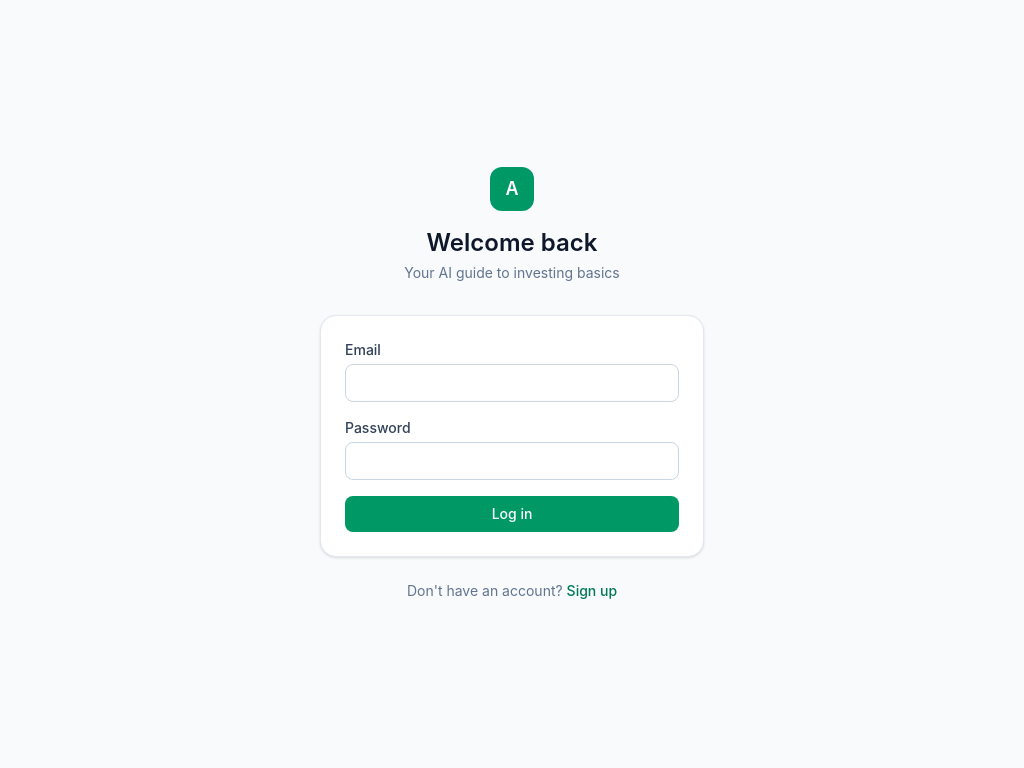
Test: login › logs in and lands on the chat page
Type "me@example.com" into the field labelled "Email" at x=512, y=383, box [345,364,679,402]
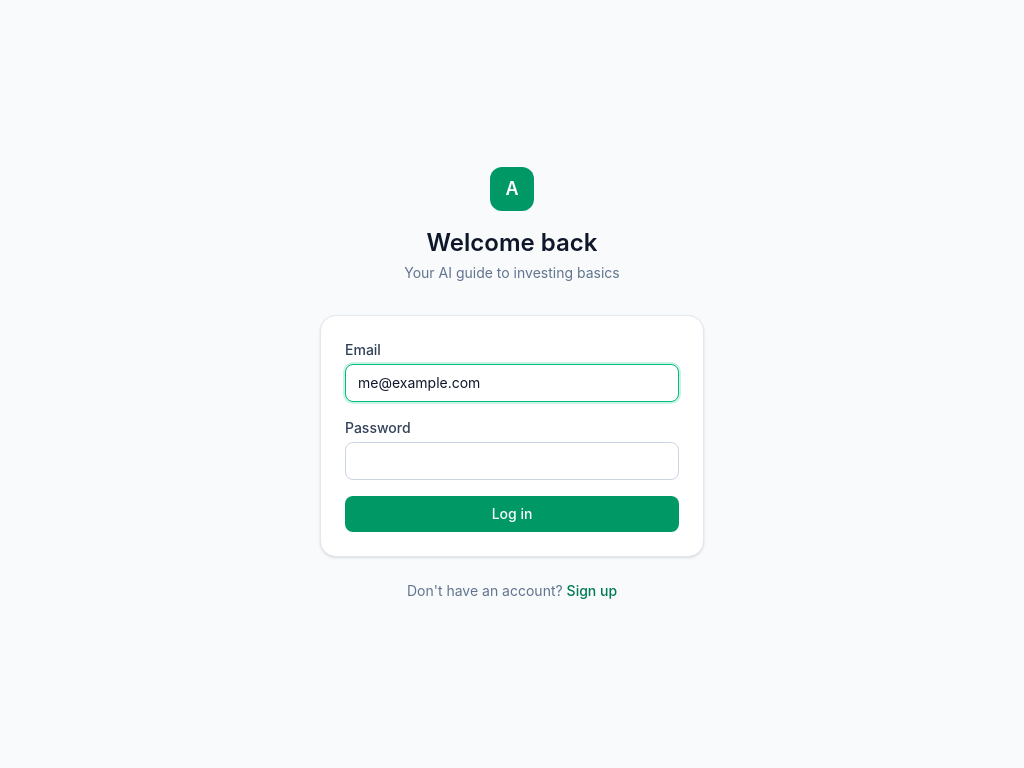
Type "password123" into the password field labelled "Password" at x=512, y=461, box [345,442,679,480]
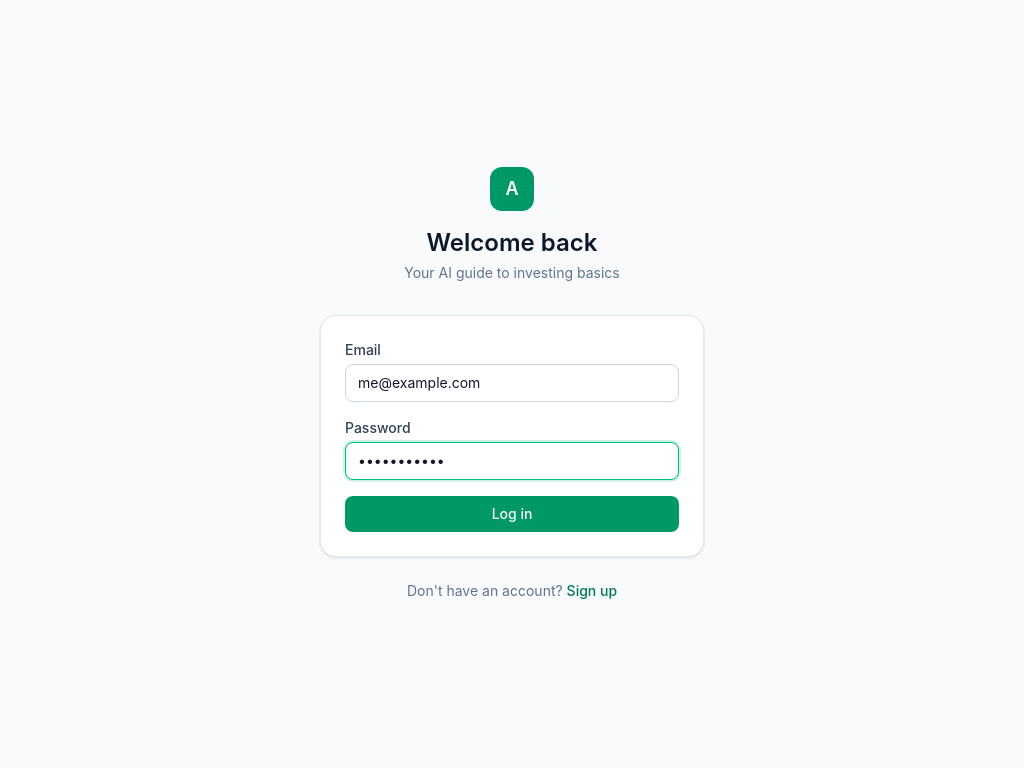
Click the button "Log in" at x=512, y=514, box [345,496,679,532]
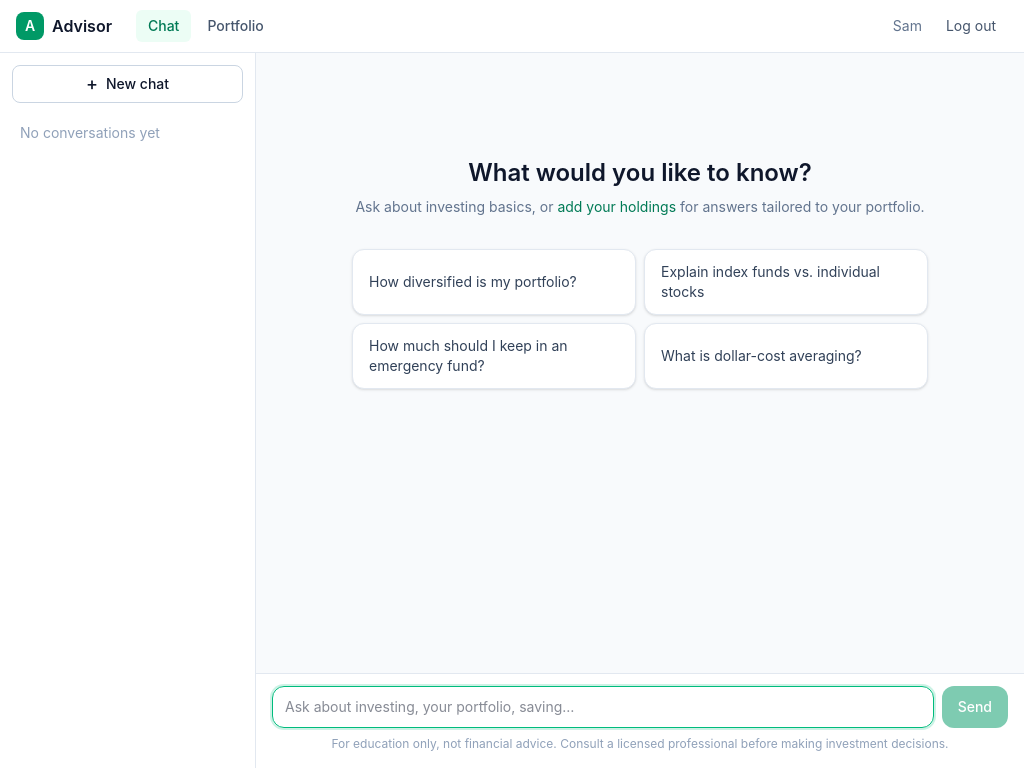
Expected: the heading "What would you like to know?" is shown, [468,158,812,187]
